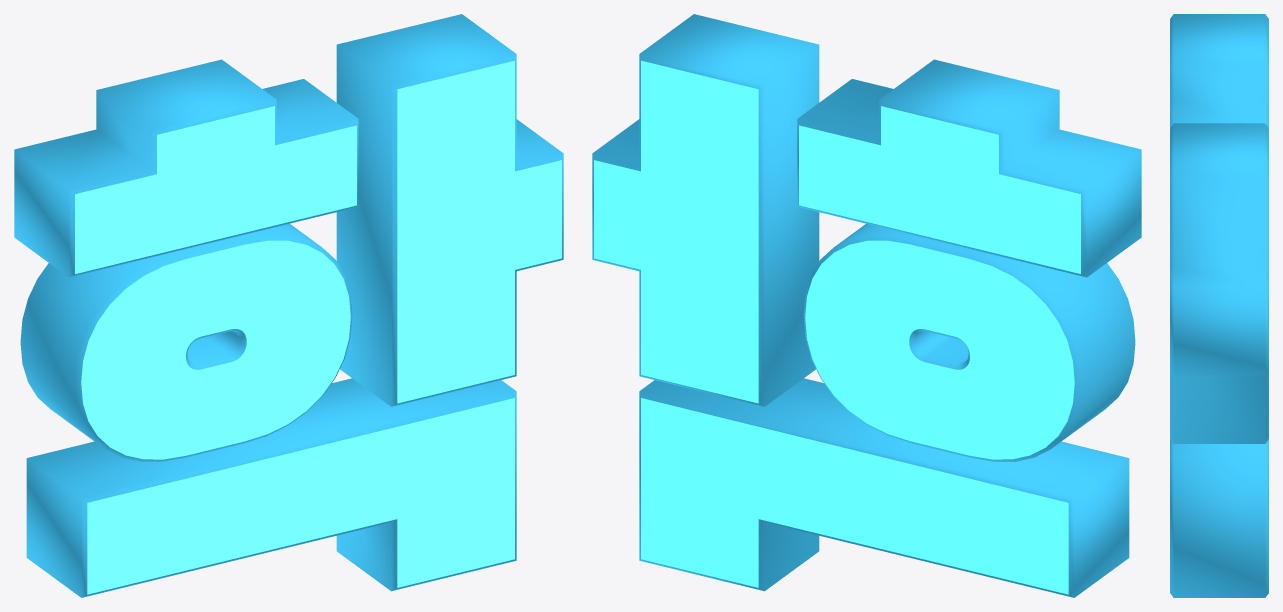
3 views of the same model, side by side, from view 1: azimuth 30°, elevation 25°; view 2: azimuth 150°, elevation 25°; view 3: azimuth 270°, elevation 25° (orthographic). The views are drawn at different scales.
Parts seen in each view (by area): view 1: glyph; view 2: glyph; view 3: glyph.
Boxes of the visible parts, x1,y1,x2,y2 form: glyph: (14, 14, 563, 597); glyph: (592, 14, 1141, 597); glyph: (1170, 14, 1268, 597).
Size of the model in its own units: 0.0783 by 0.0786 by 0.0162.
